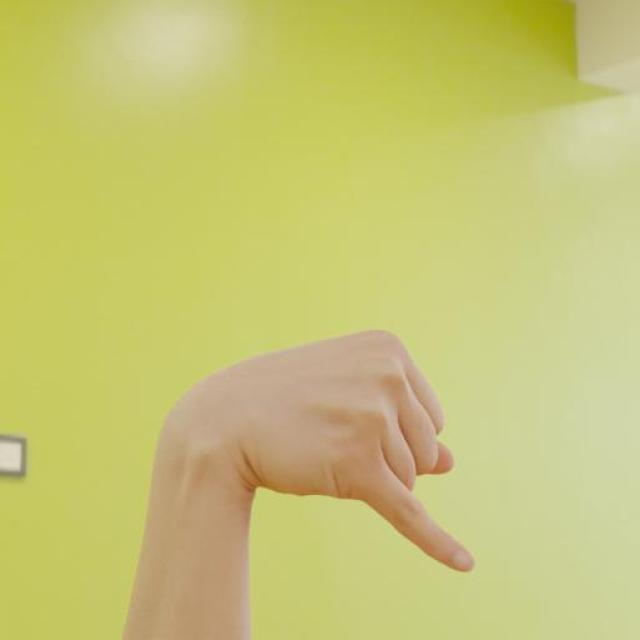J: (232, 324, 478, 578)
